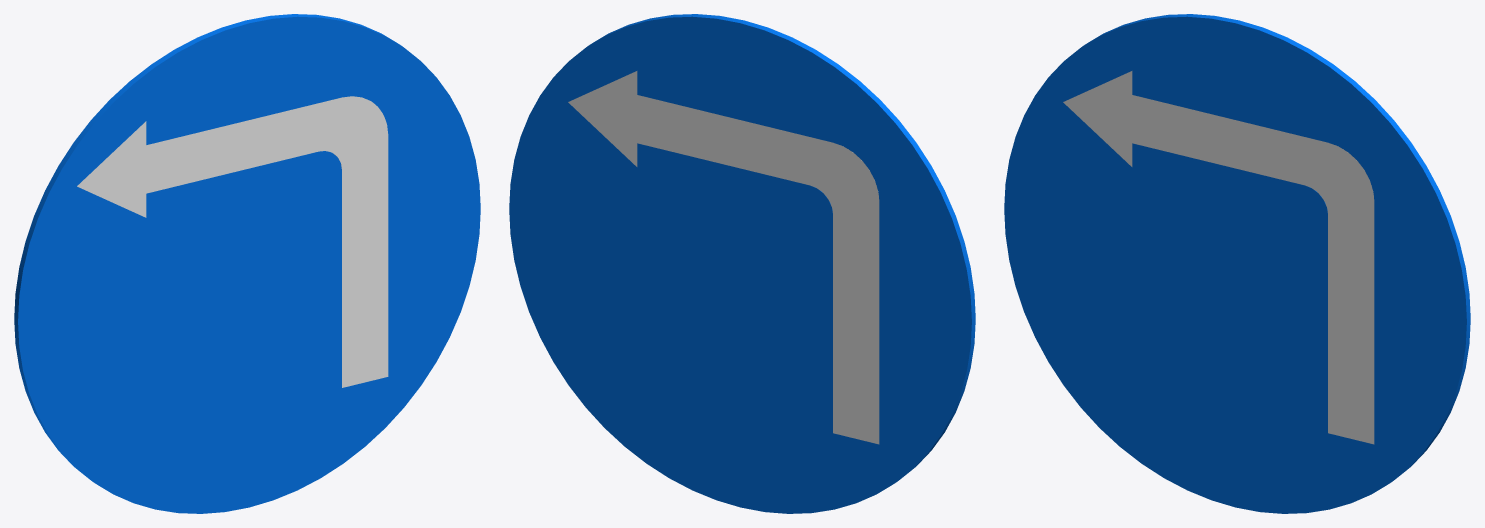
The model's file is r.301e_huongdiphaitheo.glb.
The picture shows the model from 3 angles, left to right: view 1: azimuth 30°, elevation 25°; view 2: azimuth 150°, elevation 25°; view 3: azimuth 330°, elevation 25°; orthographic projection.
Parts seen in each view (by area): view 1: Solid1, Solid2, Solid3; view 2: Solid3, Solid4, Solid1; view 3: Solid1, Solid2, Solid3.
Part boxes in pixels (bbox=[...]): Solid1: bbox=[16, 15, 480, 513]; Solid2: bbox=[77, 96, 388, 387]; Solid3: bbox=[14, 14, 399, 478]; Solid3: bbox=[509, 15, 973, 513]; Solid4: bbox=[568, 71, 879, 444]; Solid1: bbox=[590, 14, 975, 478]; Solid1: bbox=[1004, 15, 1468, 513]; Solid2: bbox=[1063, 71, 1374, 444]; Solid3: bbox=[1085, 14, 1470, 478].
Size of the model in its own units: 0.7 by 0.7 by 0.01.
